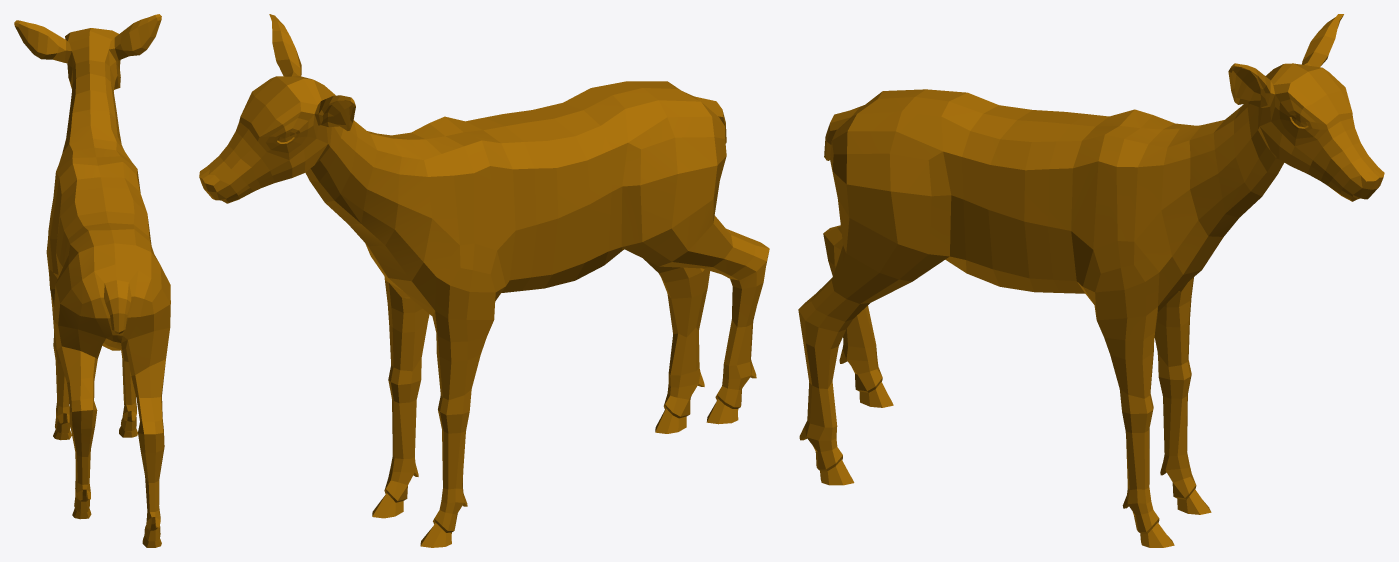
The model's file is deer.glb.
3 renders of one model, left to right at view 1: azimuth 30°, elevation 25°; view 2: azimuth 150°, elevation 25°; view 3: azimuth 270°, elevation 25°, orthographic. The views are drawn at different scales.
Visible parts, largest first — view 1: Deer; view 2: Deer; view 3: Deer.
Part boxes in pixels (box(x1,y1,x2,y2)): Deer: box(14, 14, 170, 547); Deer: box(199, 14, 769, 547); Deer: box(798, 14, 1384, 547).
Size of the model in its own units: 0.4966 by 0.773 by 0.7953.
